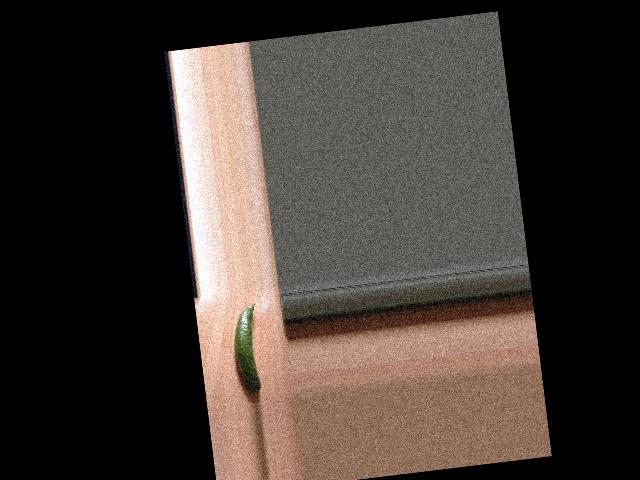cucumber: (228, 302, 265, 396)
